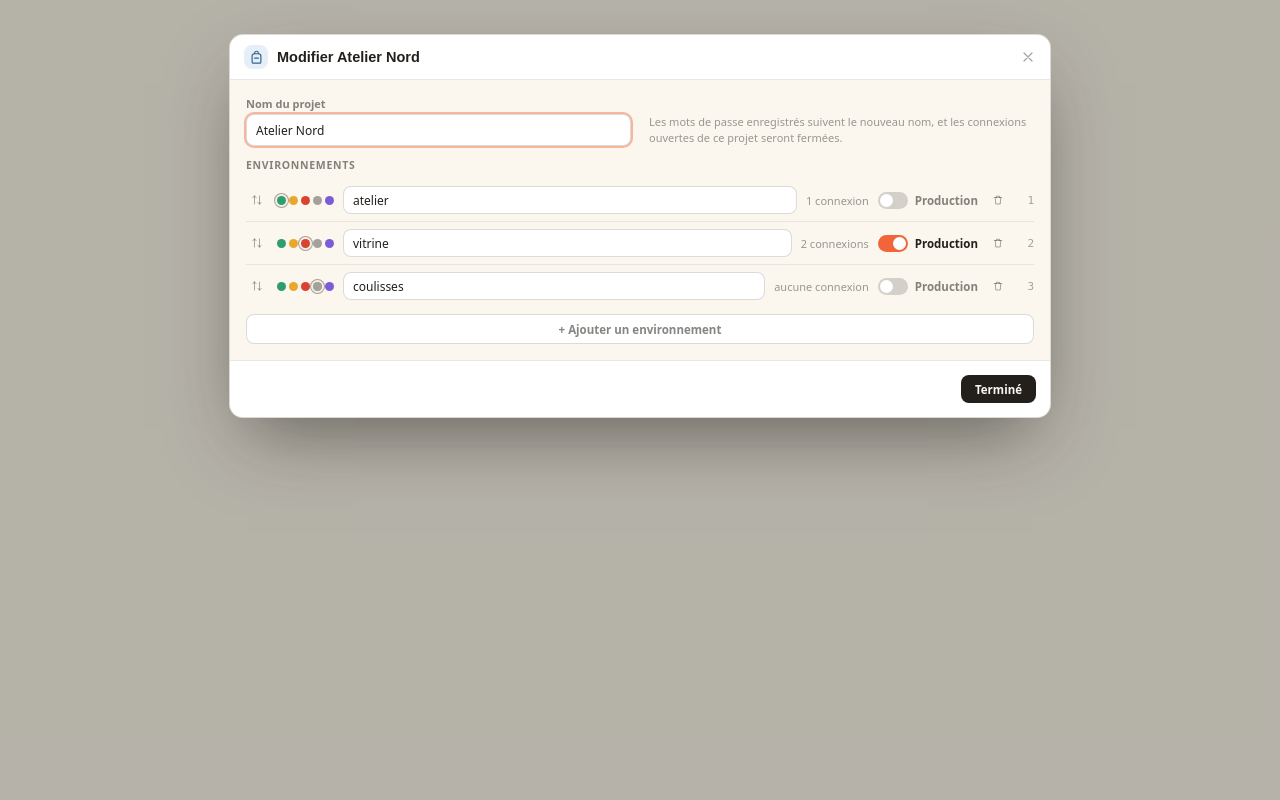
le refus du cœur s’affiche, et la modale reste ouverte
Click the button "+ Ajouter un environnement". click: [640, 329]
box: [246,314,1034,344]
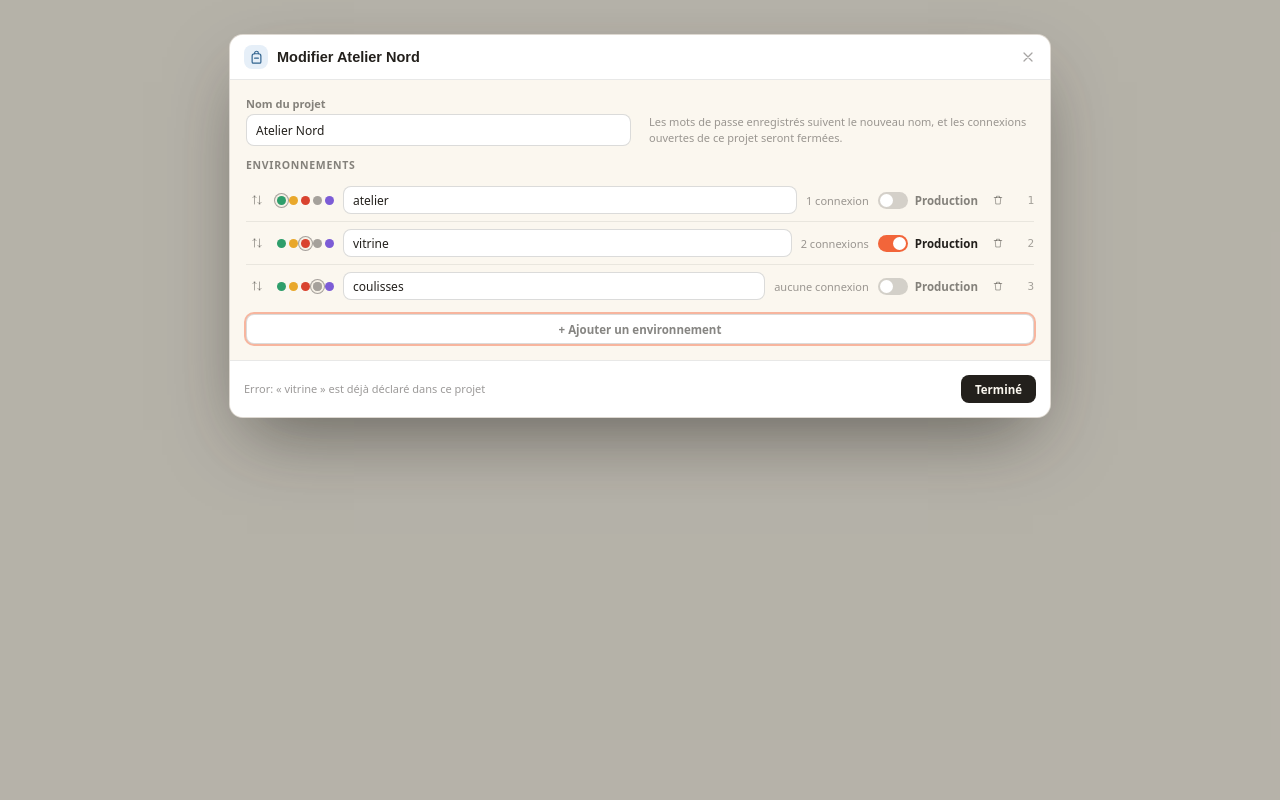
expect the dialog "Modifier Atelier Nord" is shown: met, box [229,34,1051,418]
expect the message shows "déjà déclaré": met, box [244,381,485,396]
